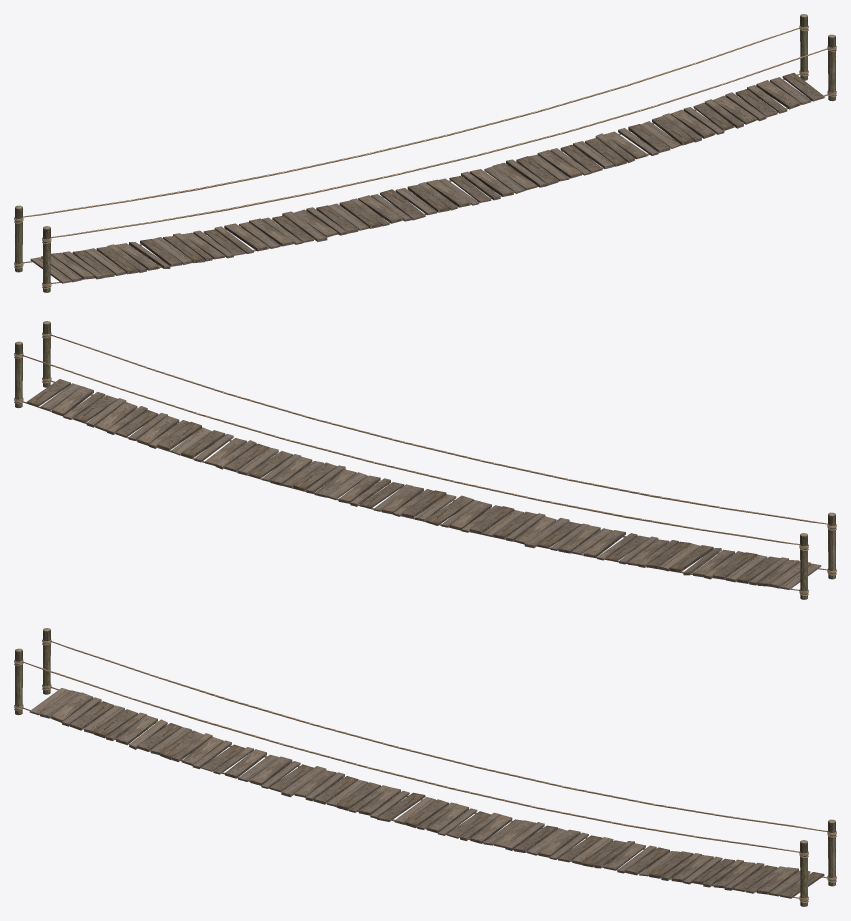
File: bridge.fbx
3 views of the same model, one above another, from view 1: azimuth 30°, elevation 25°; view 2: azimuth 150°, elevation 25°; view 3: azimuth 330°, elevation 25° (orthographic).
Parts seen in each view (by area): view 1: Cylinder.003; view 2: Cylinder.003; view 3: Cylinder.003.
Part boxes in pixels (left/top/right/bottom): Cylinder.003: left=14, top=14, right=836, bottom=292; Cylinder.003: left=14, top=321, right=836, bottom=599; Cylinder.003: left=14, top=628, right=836, bottom=906.
Bounding box in the file's own units: 1325 × 129 × 103.
Materials: 1 (1 with a texture image).
